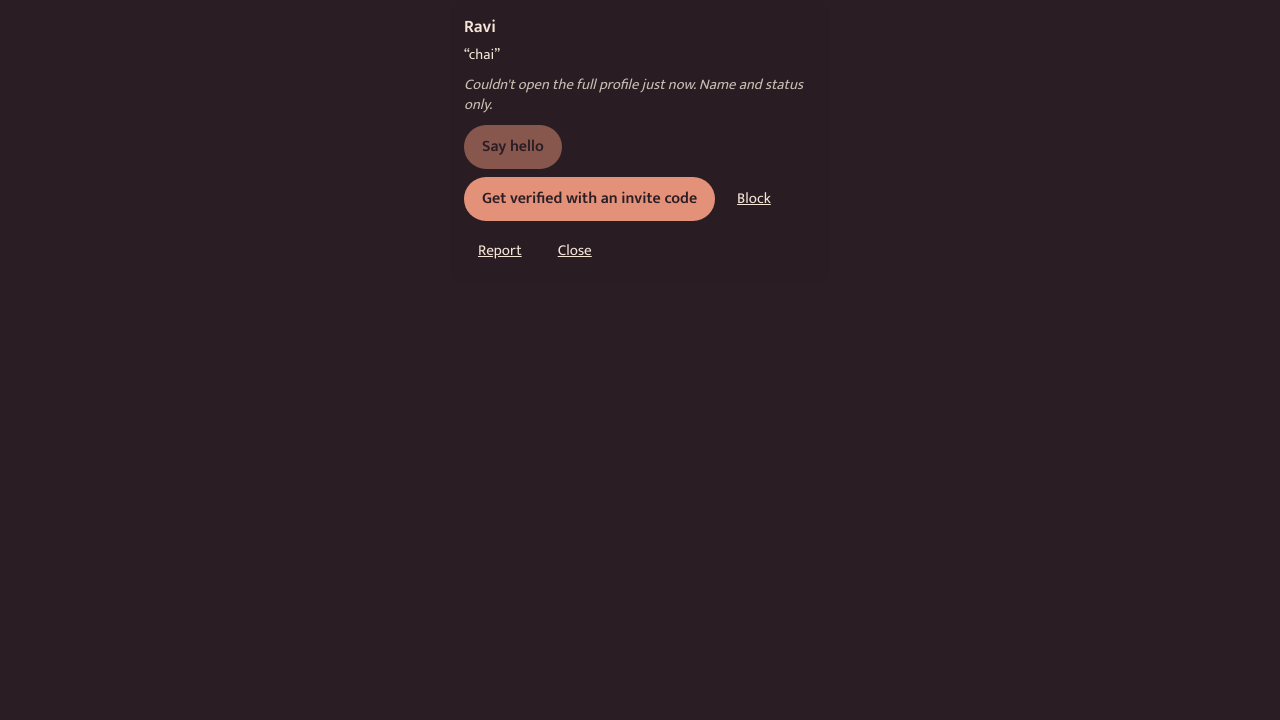
Test: PersonCard: a failed block keeps the sheet and says so
Click the button "Block" at (754, 199), box [723,177,785,221]
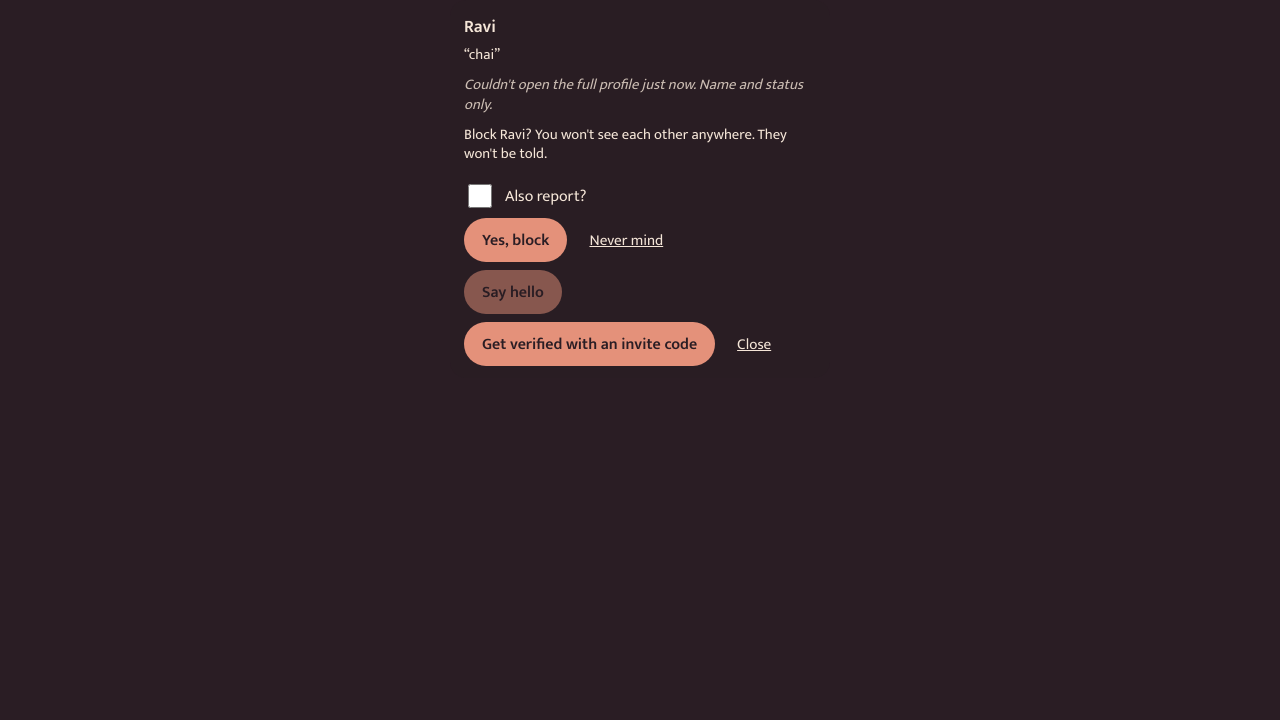
Click the button "Yes, block" at (516, 240), box [464,218,567,262]
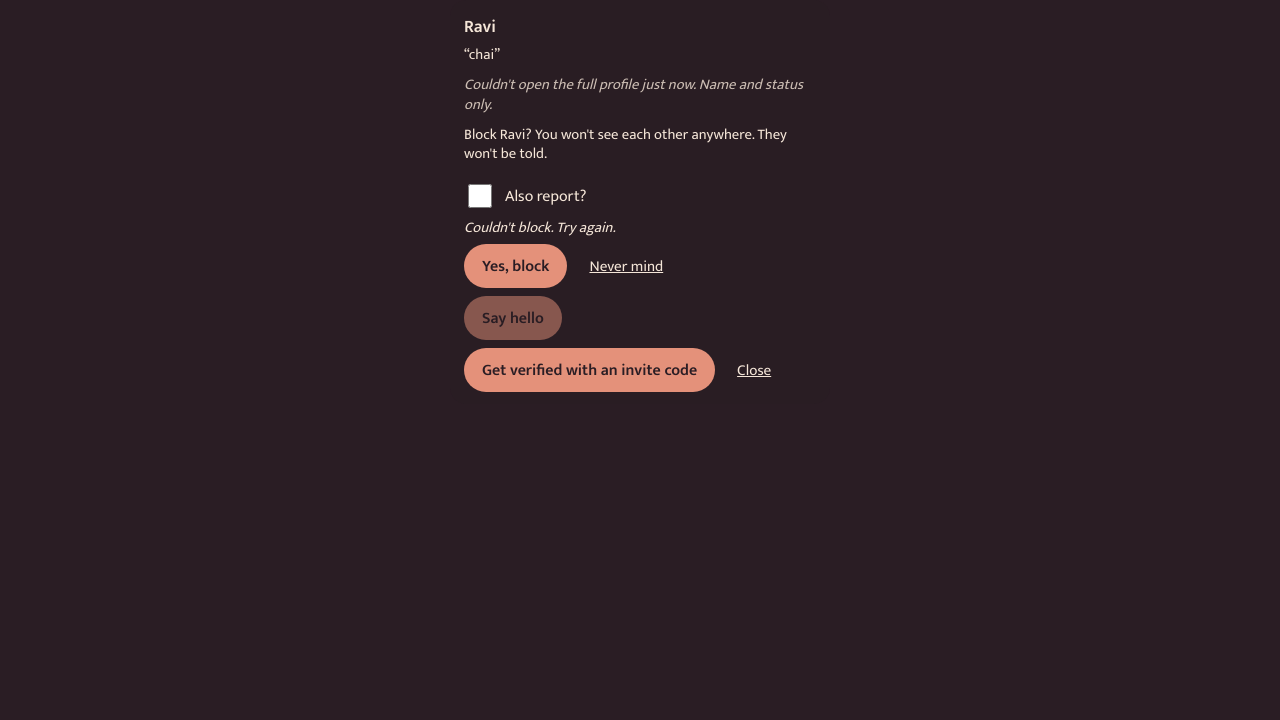
Now the text "Couldn't block" is shown, box [464,215,616,240]
